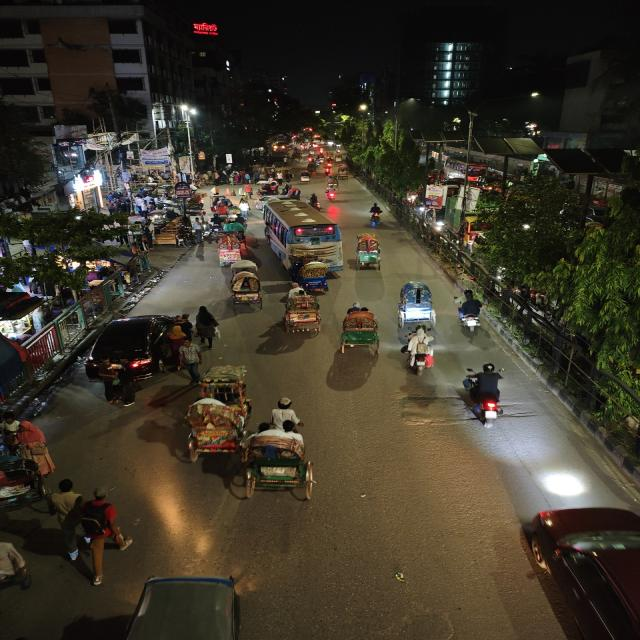bus: (257, 198, 346, 268)
car: (523, 502, 640, 640), (83, 309, 187, 383)
cng: (352, 231, 386, 271), (298, 170, 313, 183)
motorcycle: (458, 361, 512, 429), (452, 289, 488, 341), (401, 325, 436, 377), (365, 204, 386, 228), (323, 183, 341, 202), (307, 193, 322, 211)
pedestrian: (88, 484, 135, 556), (91, 366, 134, 408), (193, 303, 219, 351), (177, 337, 203, 380)
rickshaw: (241, 404, 327, 505), (177, 365, 255, 465), (338, 303, 383, 357), (393, 278, 439, 329), (280, 288, 324, 337), (225, 267, 265, 313), (290, 258, 333, 294), (353, 232, 385, 271), (212, 231, 246, 267), (172, 223, 194, 249), (211, 195, 235, 217), (236, 196, 252, 218), (259, 181, 281, 196), (336, 165, 350, 181)
